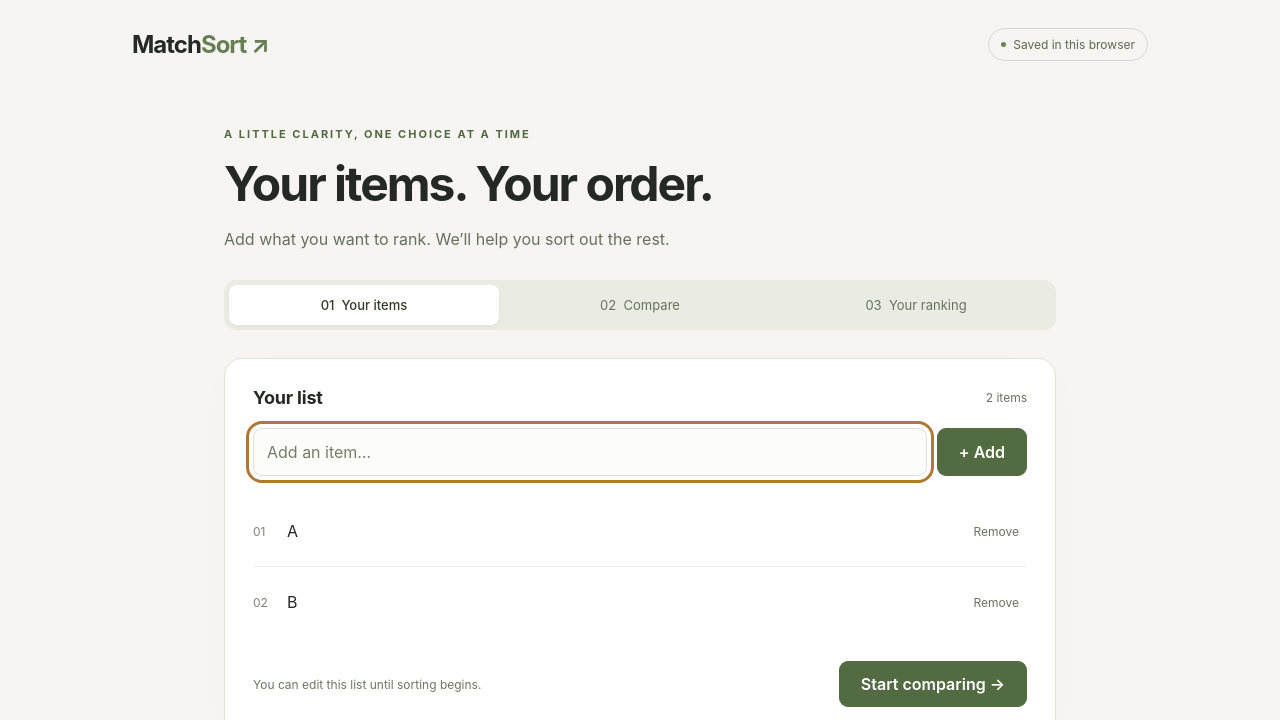
Scenario: supports skip, forced revisit, ties, completion undo, and exact reload
Later steps or results of the test are not shown.
Click the button "Start comparing →": (933, 684) [839,661,1027,707]
(page scrolled)
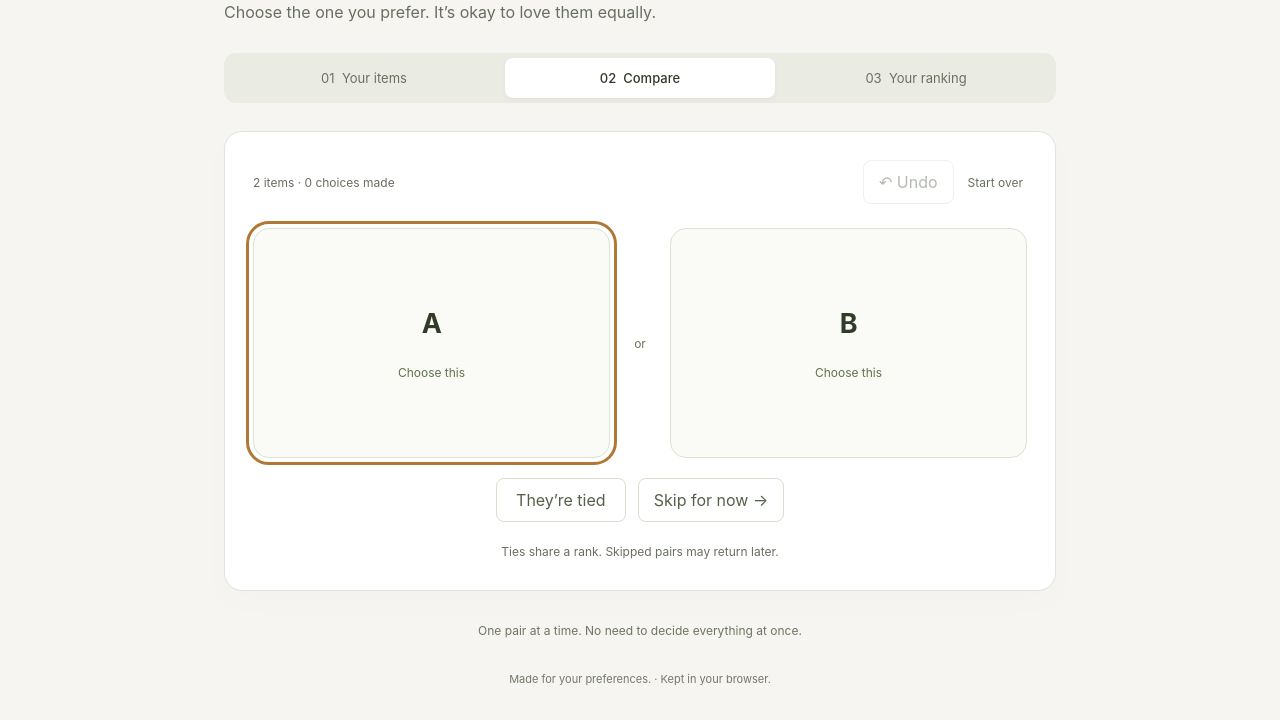
Expected: the field is gone
Click the button "Skip for now →": (711, 500) [638,478,784,522]
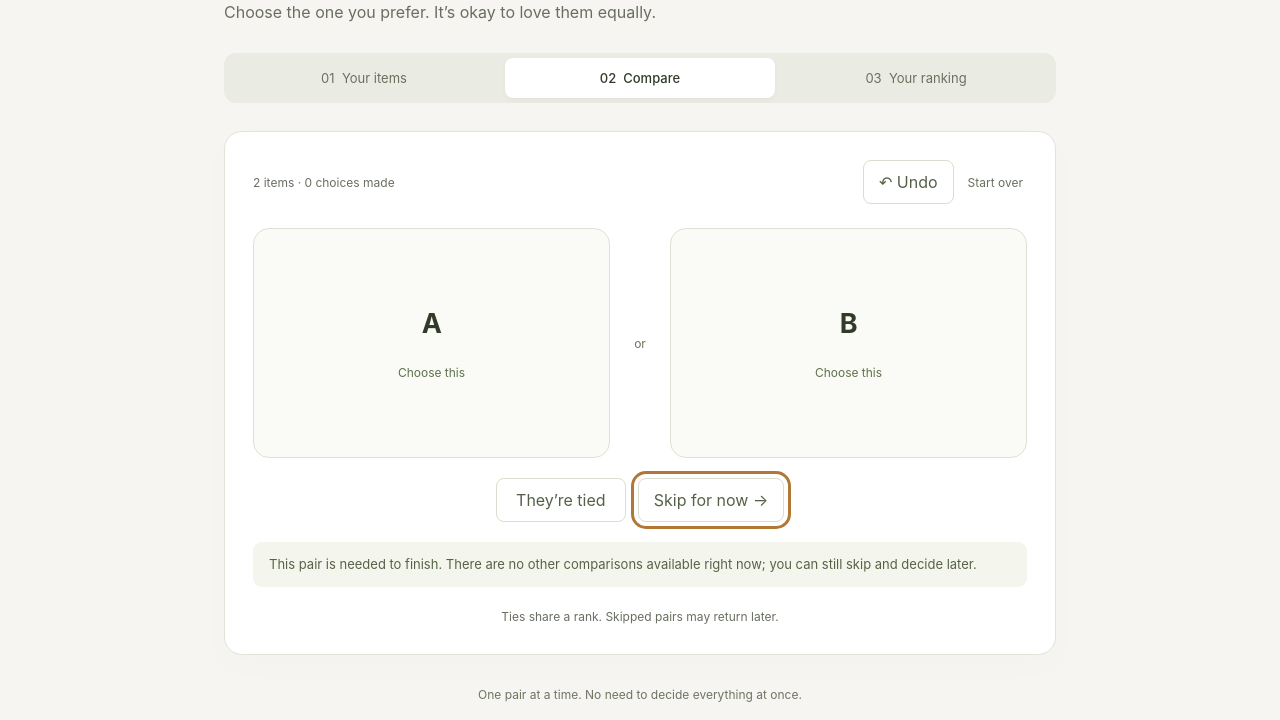
Expected: the text "needed to finish" is shown, [269,556,977,572]
